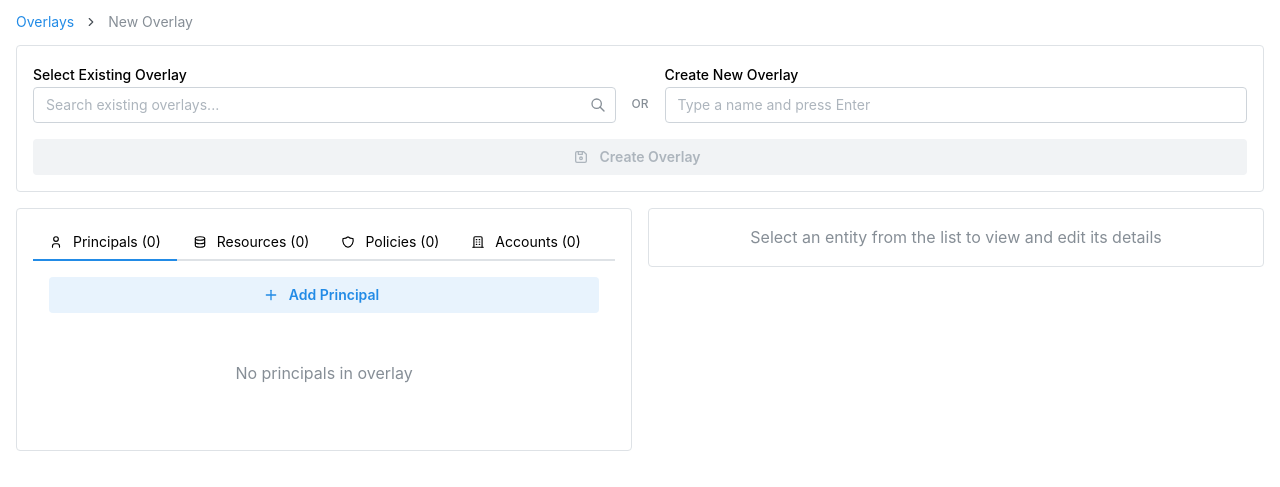
Test case: OverlayEditorPage › New Overlay Creation › enables create button when name is confirmed
This screenshot has width=1280, height=487.
Note: Type name and press Enter
Type "My New Overlay" into the field with placeholder "Type a name and press Enter".
click(956, 105); type("My New Overlay")  # box [664,87,1247,123]
Then press Enter
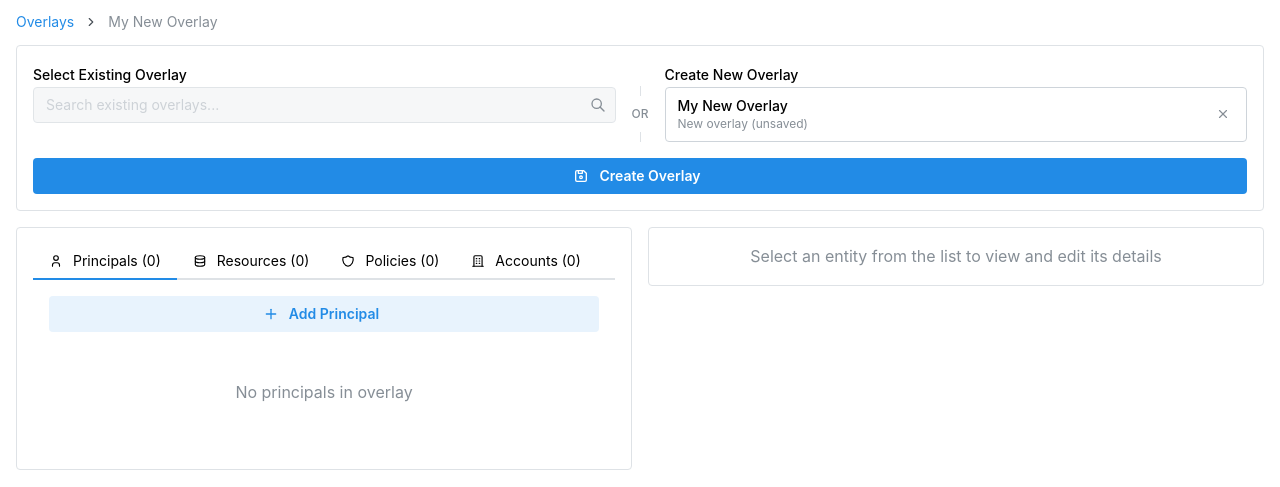
Check: the button "Create Overlay" is enabled, box [33,158,1247,194]
